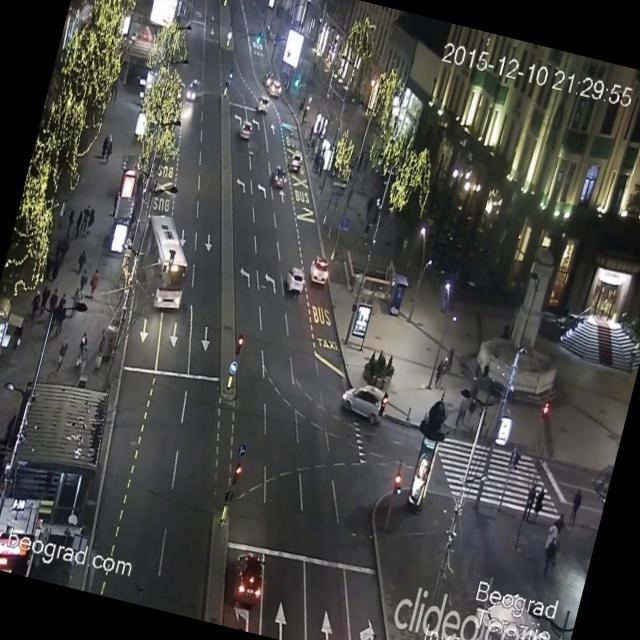bus: (128, 210, 200, 314)
car: (336, 378, 391, 427), (225, 549, 269, 609), (306, 253, 332, 286), (282, 265, 308, 295), (265, 76, 285, 96), (268, 166, 286, 188), (288, 150, 304, 173), (234, 120, 252, 140), (257, 102, 268, 119)
